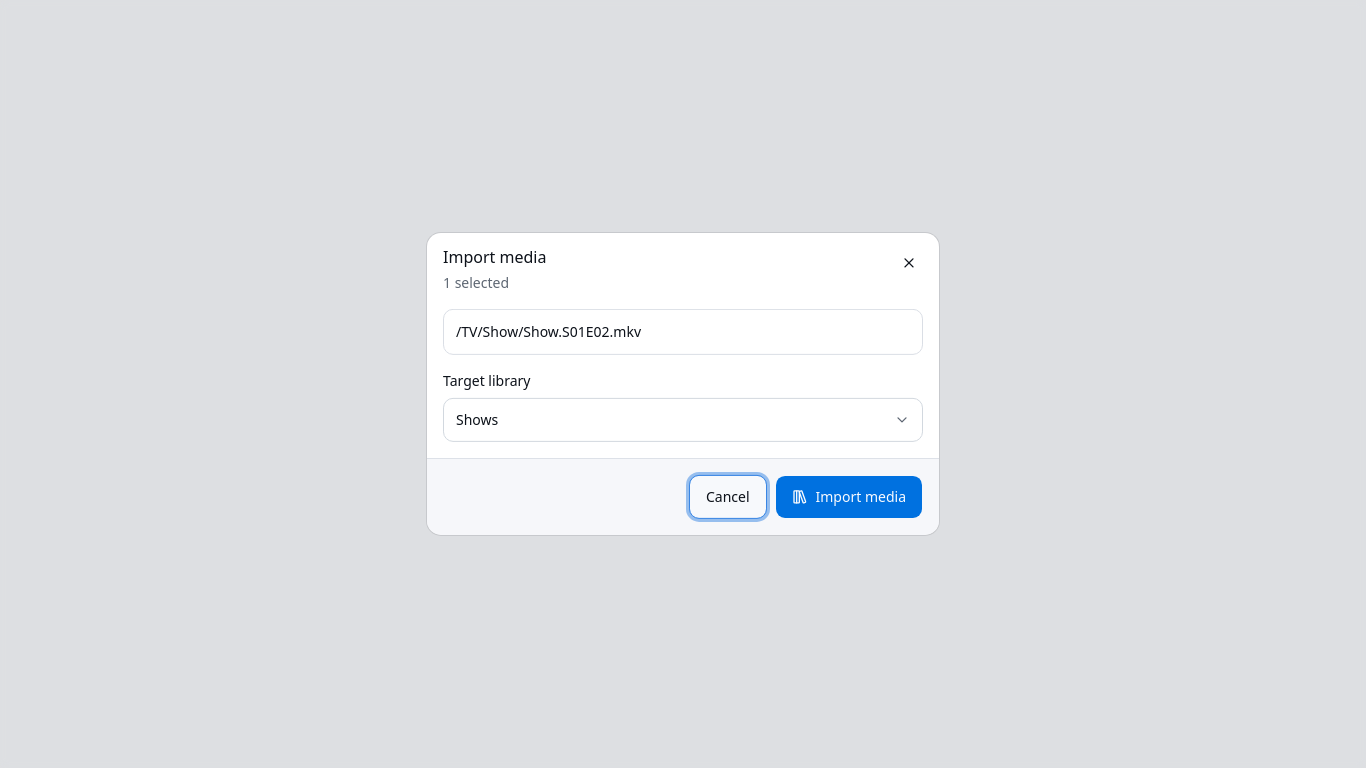
Scenario: media import › keeps the selection available after an import request fails
Click the button "Import media".
click(849, 497)  # box [774, 475, 923, 519]
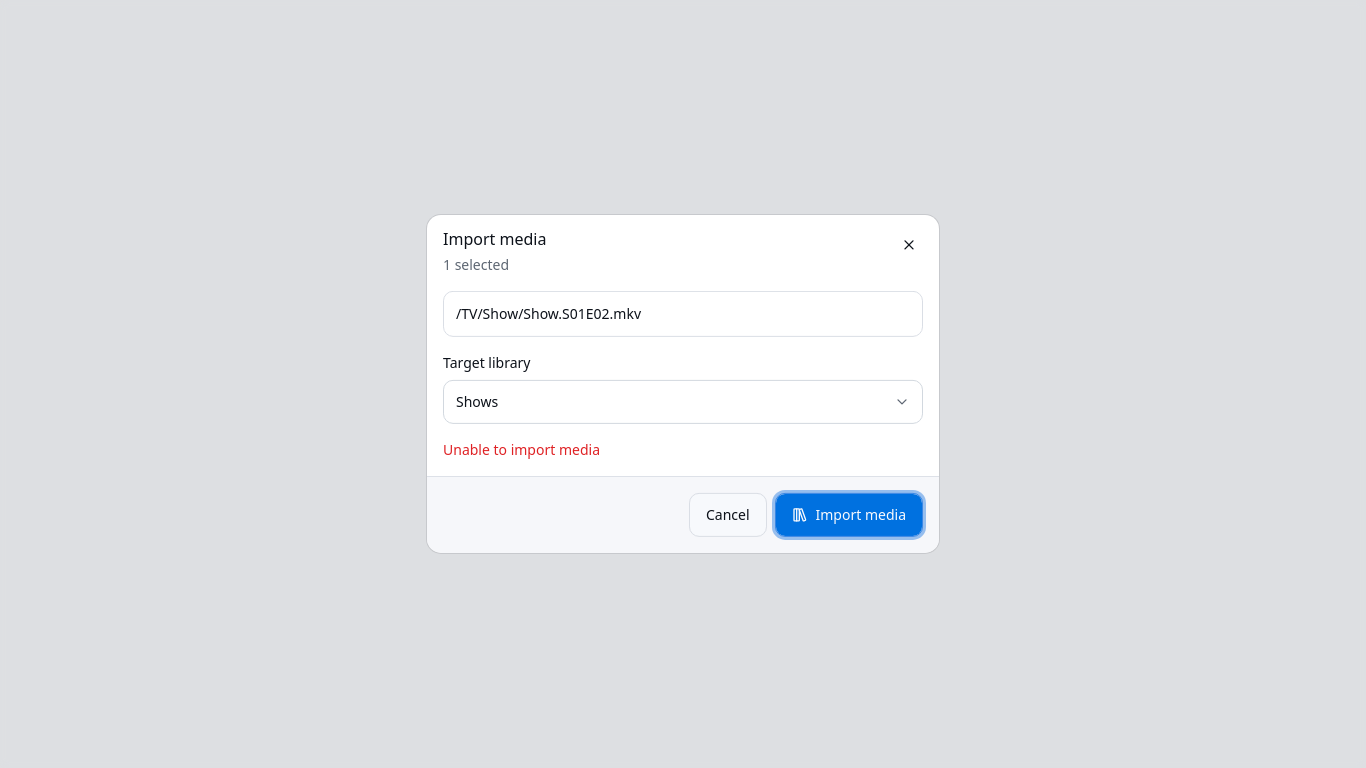
Expected: the button "Import media" is enabled, [774, 493, 923, 537]
Expected: the message reads "Unable to import media", [443, 440, 600, 459]
